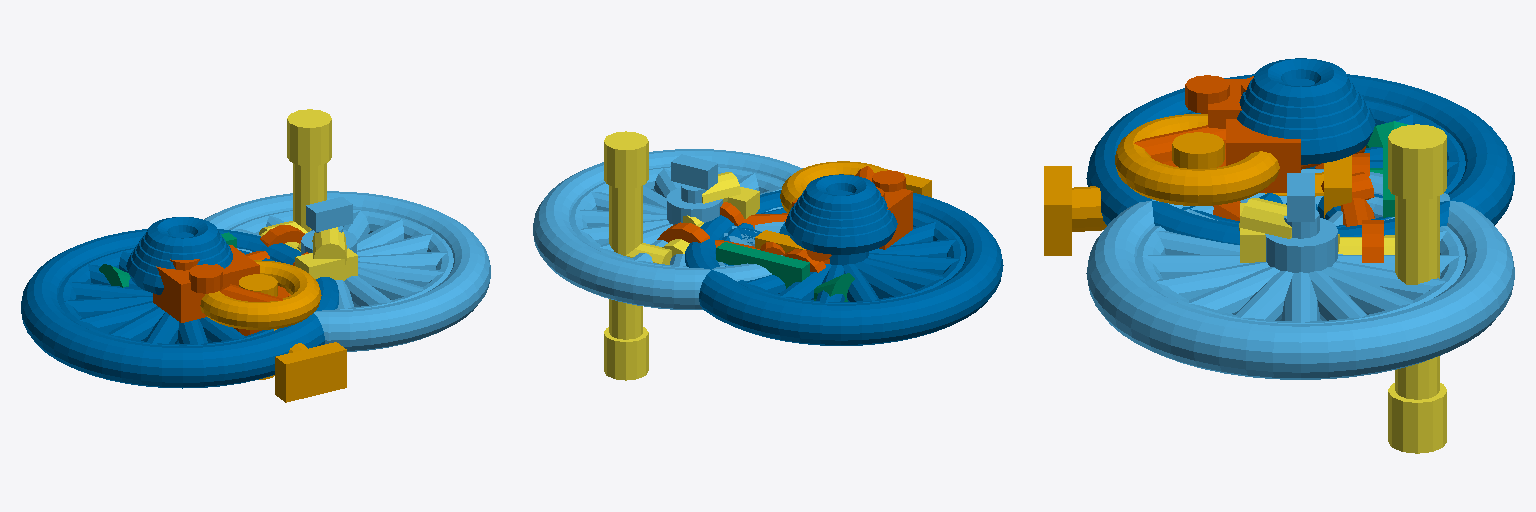
robot.urdf — a_bicycle_1:
<?xml version="1.0"?>
<robot name="a_bicycle_1">
  <link name="crankset_pedals_assembly">
    <visual>
      <geometry>
        <mesh filename="links/crankset_pedals_assembly.obj" />
      </geometry>
      <origin xyz="-0.3 -0.45 0.0" rpy="0.0 0.0 0.0" />
    </visual>
    <collision>
      <geometry>
        <mesh filename="links/crankset_pedals_assembly.obj" />
      </geometry>
      <origin xyz="-0.3 -0.45 0.0" rpy="0.0 0.0 0.0" />
    </collision>
  </link>
  <link name="front_wheel_assembly">
    <visual>
      <geometry>
        <mesh filename="links/front_wheel_assembly.obj" />
      </geometry>
      <origin xyz="-2.25 -2.15 0.0" rpy="0.0 0.0 0.0" />
    </visual>
    <collision>
      <geometry>
        <mesh filename="links/front_wheel_assembly.obj" />
      </geometry>
      <origin xyz="-2.25 -2.15 0.0" rpy="0.0 0.0 0.0" />
    </collision>
  </link>
  <link name="seat_saddle_assembly">
    <visual>
      <geometry>
        <mesh filename="links/seat_saddle_assembly.obj" />
      </geometry>
    </visual>
    <collision>
      <geometry>
        <mesh filename="links/seat_saddle_assembly.obj" />
      </geometry>
    </collision>
  </link>
  <link name="front_steering_assembly">
    <visual>
      <geometry>
        <mesh filename="links/front_steering_assembly.obj" />
      </geometry>
      <origin xyz="-1.05 -1.15 0.0" rpy="0.0 0.0 0.0" />
    </visual>
    <collision>
      <geometry>
        <mesh filename="links/front_steering_assembly.obj" />
      </geometry>
      <origin xyz="-1.05 -1.15 0.0" rpy="0.0 0.0 0.0" />
    </collision>
  </link>
  <link name="rear_wheel_assembly">
    <visual>
      <geometry>
        <mesh filename="links/rear_wheel_assembly.obj" />
      </geometry>
      <origin xyz="0.0 -1.0 0.0" rpy="0.0 0.0 0.0" />
    </visual>
    <collision>
      <geometry>
        <mesh filename="links/rear_wheel_assembly.obj" />
      </geometry>
      <origin xyz="0.0 -1.0 0.0" rpy="0.0 0.0 0.0" />
    </collision>
  </link>
  <link name="bicycle_frame">
    <visual>
      <geometry>
        <mesh filename="links/bicycle_frame.obj" />
      </geometry>
    </visual>
    <collision>
      <geometry>
        <mesh filename="links/bicycle_frame.obj" />
      </geometry>
    </collision>
  </link>
  <joint name="frame_to_steering" type="revolute">
    <parent link="bicycle_frame" />
    <child link="front_steering_assembly" />
    <origin xyz="1.05 1.15 0" rpy="0 0 0" />
    <axis xyz="0 1 0" />
    <limit lower="-0.45" upper="0.45" effort="10" velocity="2" />
  </joint>
  <joint name="front_wheel_spin" type="continuous">
    <parent link="front_steering_assembly" />
    <child link="front_wheel_assembly" />
    <origin xyz="1.2 1.0 0" rpy="0 0 0" />
    <axis xyz="0 0 1" />
    
  </joint>
  <joint name="rear_wheel_spin" type="continuous">
    <parent link="bicycle_frame" />
    <child link="rear_wheel_assembly" />
    <origin xyz="0 1.0 0" rpy="0 0 0" />
    <axis xyz="0 0 1" />
    
  </joint>
  <joint name="crank_spin" type="revolute">
    <parent link="bicycle_frame" />
    <child link="crankset_pedals_assembly" />
    <origin xyz="0.3 0.45 0" rpy="0 0 0" />
    <axis xyz="0 0 1" />
    <limit lower="-1.57" upper="1.57" effort="10" velocity="5" />
  </joint>
  <joint name="frame_to_seat" type="fixed">
    <parent link="bicycle_frame" />
    <child link="seat_saddle_assembly" />
    
    
  </joint>
</robot>

--- What the picture shows (computed from the rendered views, not written in the file) ---
The picture shows the robot from 3 angles, left to right: view 1: azimuth 30°, elevation 25°; view 2: azimuth 150°, elevation 25°; view 3: azimuth 270°, elevation 25°; orthographic projection.
Robot: a_bicycle_1 — 6 links, 5 joints (2 revolute, 2 continuous, 1 fixed); root link bicycle_frame; default pose: every joint at zero.
Links seen in each view (by area): view 1: rear_wheel_assembly, front_wheel_assembly, crankset_pedals_assembly, front_steering_assembly, bicycle_frame, seat_saddle_assembly; view 2: rear_wheel_assembly, front_wheel_assembly, front_steering_assembly, bicycle_frame, crankset_pedals_assembly, seat_saddle_assembly; view 3: front_wheel_assembly, rear_wheel_assembly, front_steering_assembly, crankset_pedals_assembly, bicycle_frame, seat_saddle_assembly.
Boxes of the visible links, <box> form: rear_wheel_assembly: <box>21,217,338,388</box>; front_wheel_assembly: <box>204,191,490,351</box>; crankset_pedals_assembly: <box>200,260,346,402</box>; front_steering_assembly: <box>259,109,357,280</box>; bicycle_frame: <box>153,225,308,335</box>; seat_saddle_assembly: <box>99,232,236,287</box>; rear_wheel_assembly: <box>685,174,1003,345</box>; front_wheel_assembly: <box>533,149,802,309</box>; front_steering_assembly: <box>604,131,759,380</box>; bicycle_frame: <box>657,166,912,272</box>; crankset_pedals_assembly: <box>755,161,931,252</box>; seat_saddle_assembly: <box>716,242,854,301</box>; front_wheel_assembly: <box>1086,169,1514,379</box>; rear_wheel_assembly: <box>1086,58,1514,244</box>; front_steering_assembly: <box>1239,124,1446,453</box>; crankset_pedals_assembly: <box>1044,114,1351,255</box>; bicycle_frame: <box>1134,75,1383,262</box>; seat_saddle_assembly: <box>1366,121,1407,217</box>.
Size in the robot's own frame: 3.5 by 2.52 by 1.8 metres.
Meshes: 6 distinct files referenced, 6 mesh visuals loaded (6 OBJ).
